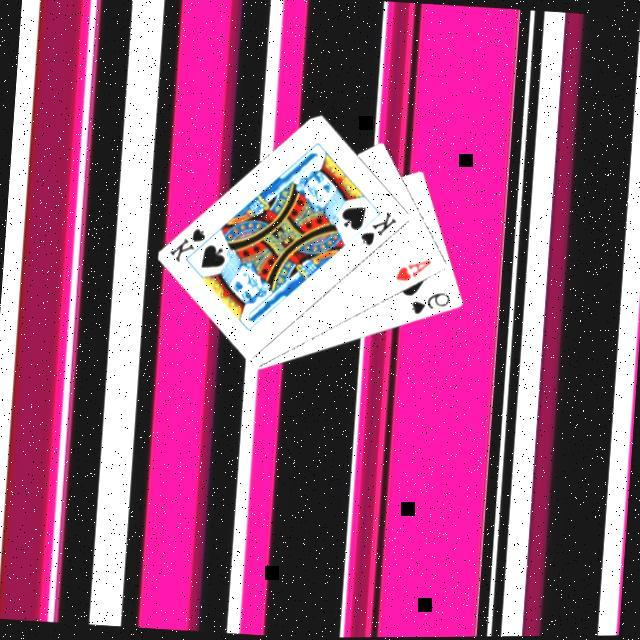9S: (409, 286, 455, 319)
AH: (393, 253, 437, 286)
KS: (167, 221, 219, 266), (358, 206, 403, 251)
